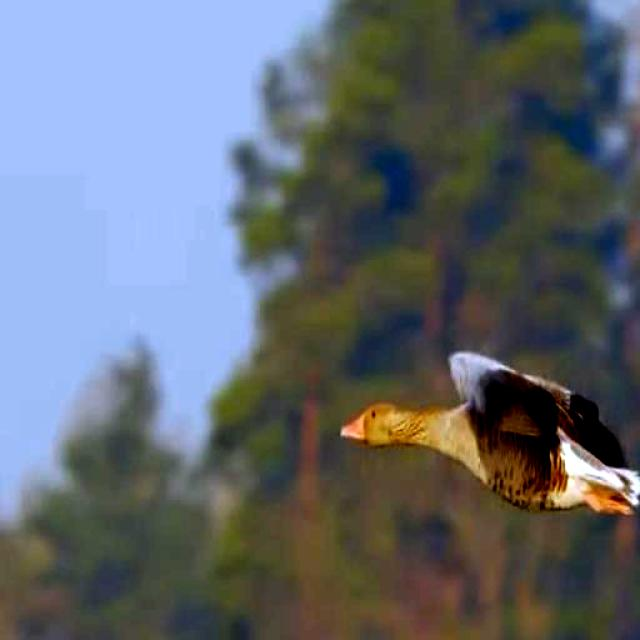airplane: (334, 326, 640, 526)
